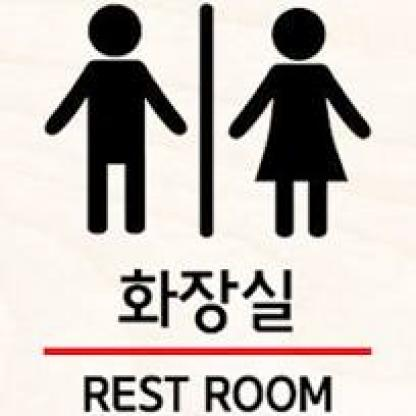toilet: (35, 2, 382, 244)
